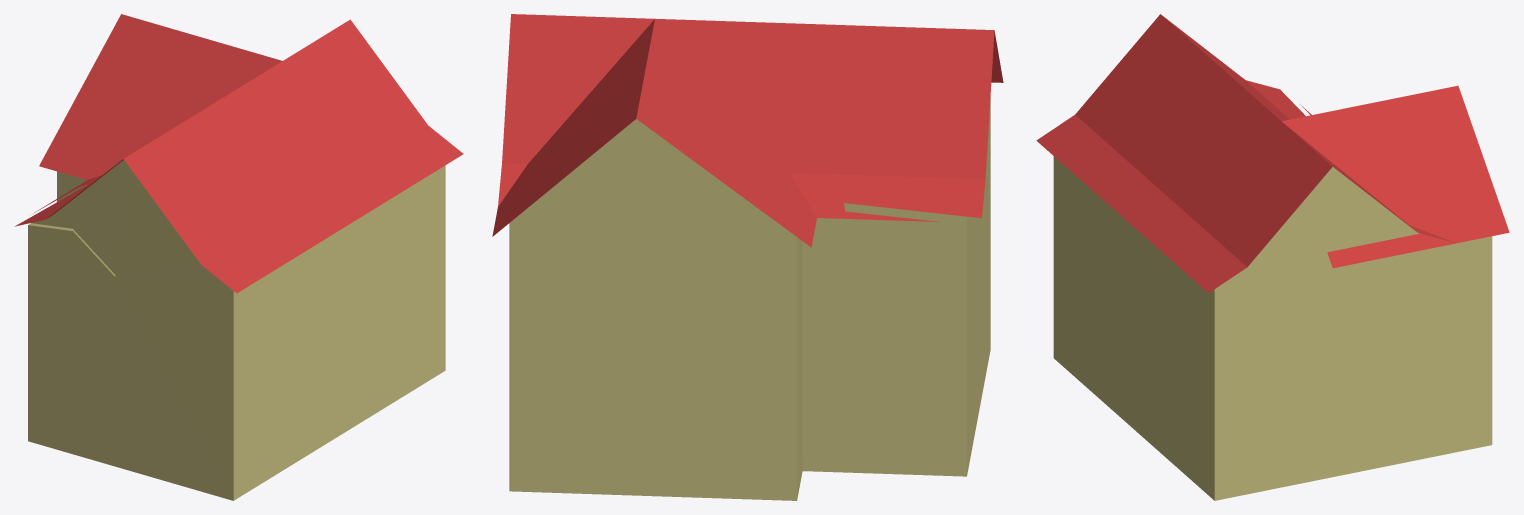
The picture shows the model from 3 angles, left to right: view 1: azimuth 30°, elevation 25°; view 2: azimuth 150°, elevation 25°; view 3: azimuth 270°, elevation 25°; orthographic projection. The views are drawn at different scales.
Bounding box in the file's own units: 18.38 × 18.22 × 13.44.
